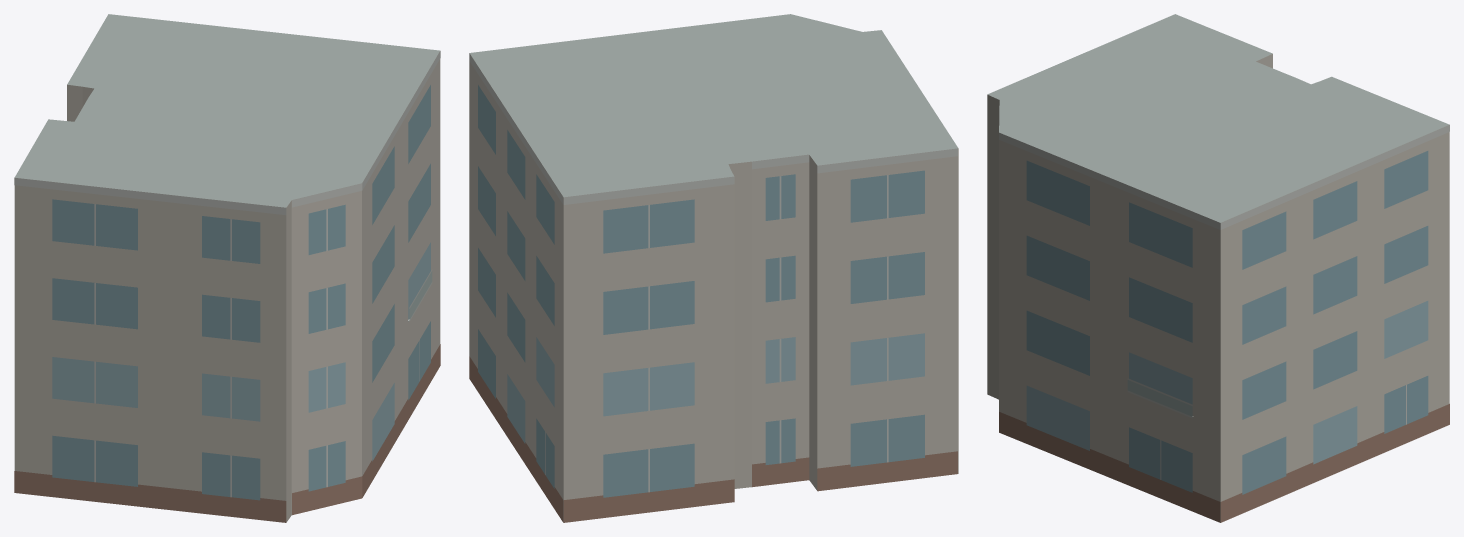
The model's file is survey-upis-32655634.glb.
3 renders of one model, left to right at view 1: azimuth 30°, elevation 25°; view 2: azimuth 150°, elevation 25°; view 3: azimuth 270°, elevation 25°, orthographic. The views are drawn at different scales.
Visible parts, largest first — view 1: survey-upis-32655634.tmp; view 2: survey-upis-32655634.tmp; view 3: survey-upis-32655634.tmp.
Boxes of the visible parts, x1=… form: survey-upis-32655634.tmp: x1=14, y1=14, x2=440, y2=522; survey-upis-32655634.tmp: x1=469, y1=14, x2=958, y2=522; survey-upis-32655634.tmp: x1=987, y1=14, x2=1449, y2=522.
Bounding box in the file's own units: 15.24 × 10.2 × 14.26.
